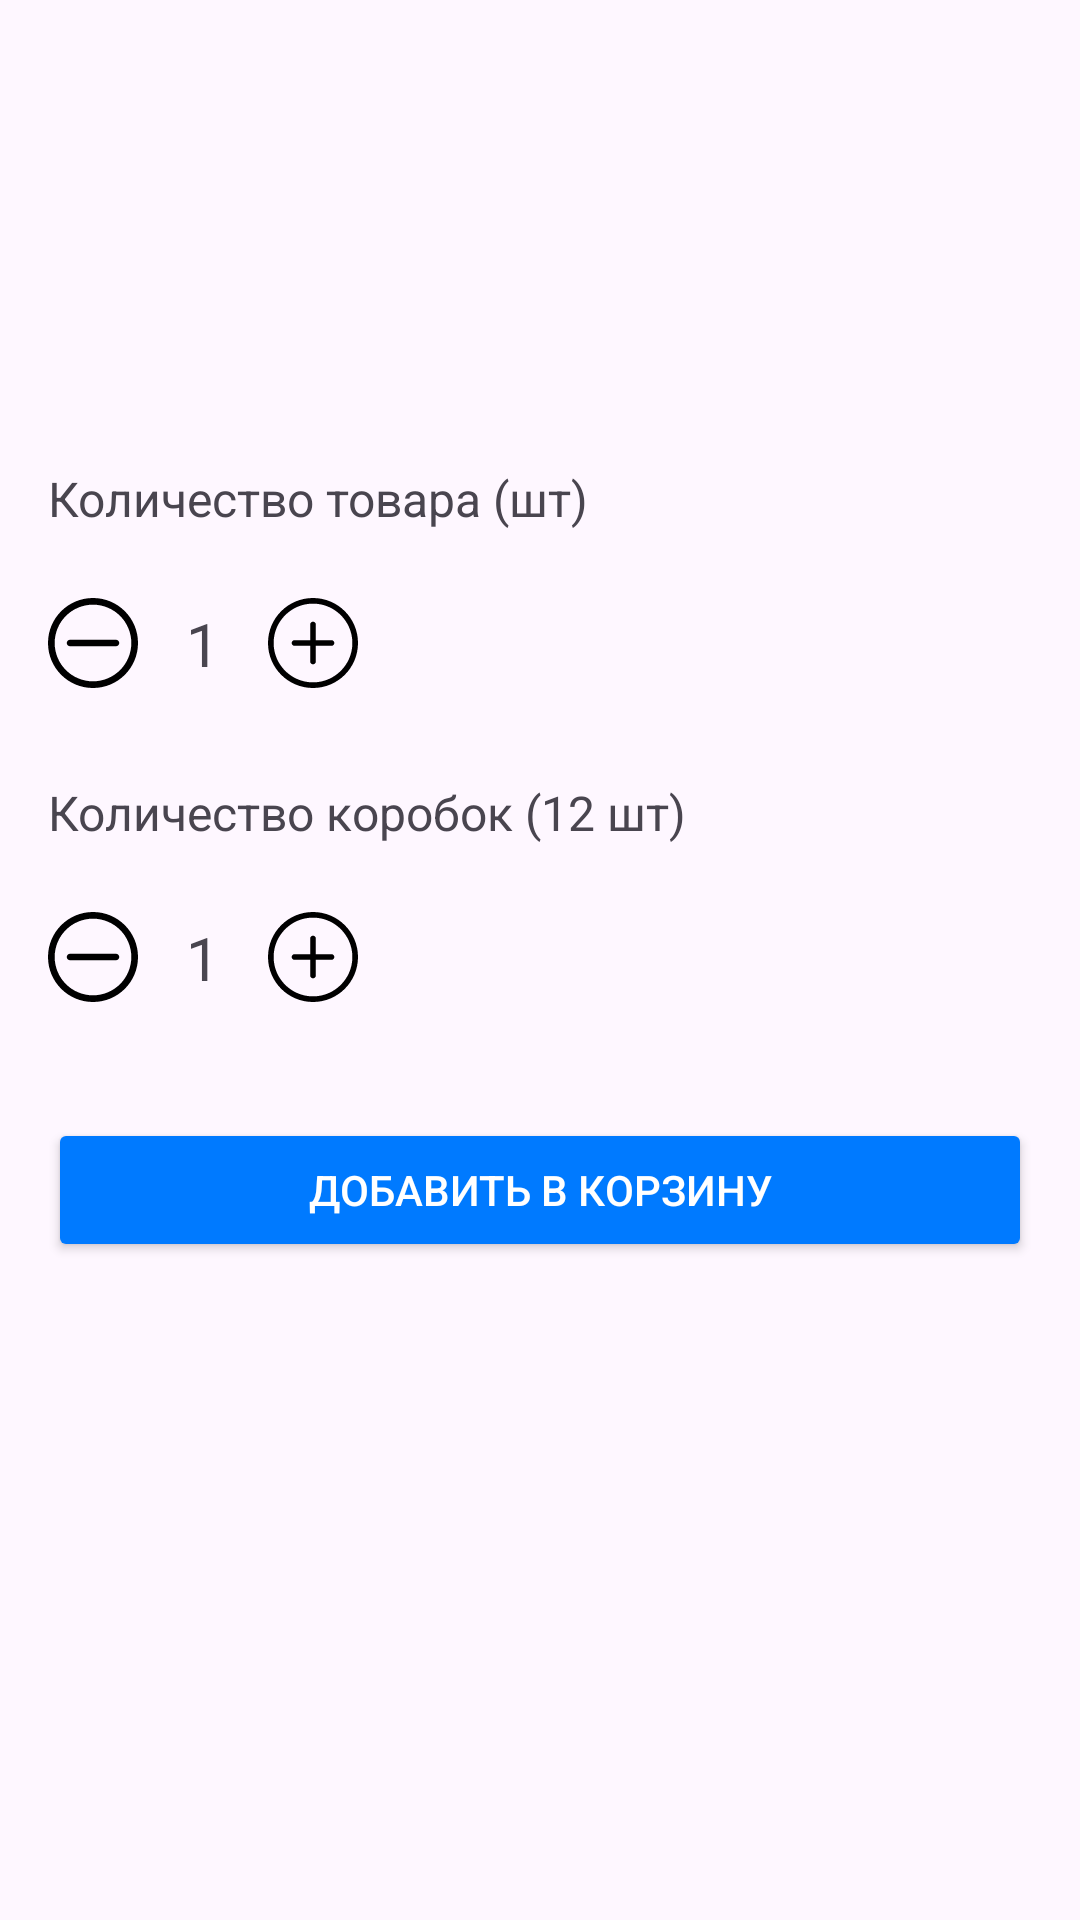

Icons on this 1080px x 1920px Android screen, each with its box as (x1, y1, x2, y2):
minus: (48, 598, 138, 688), (48, 912, 138, 1002)
plus: (268, 598, 358, 688), (268, 912, 358, 1002)
